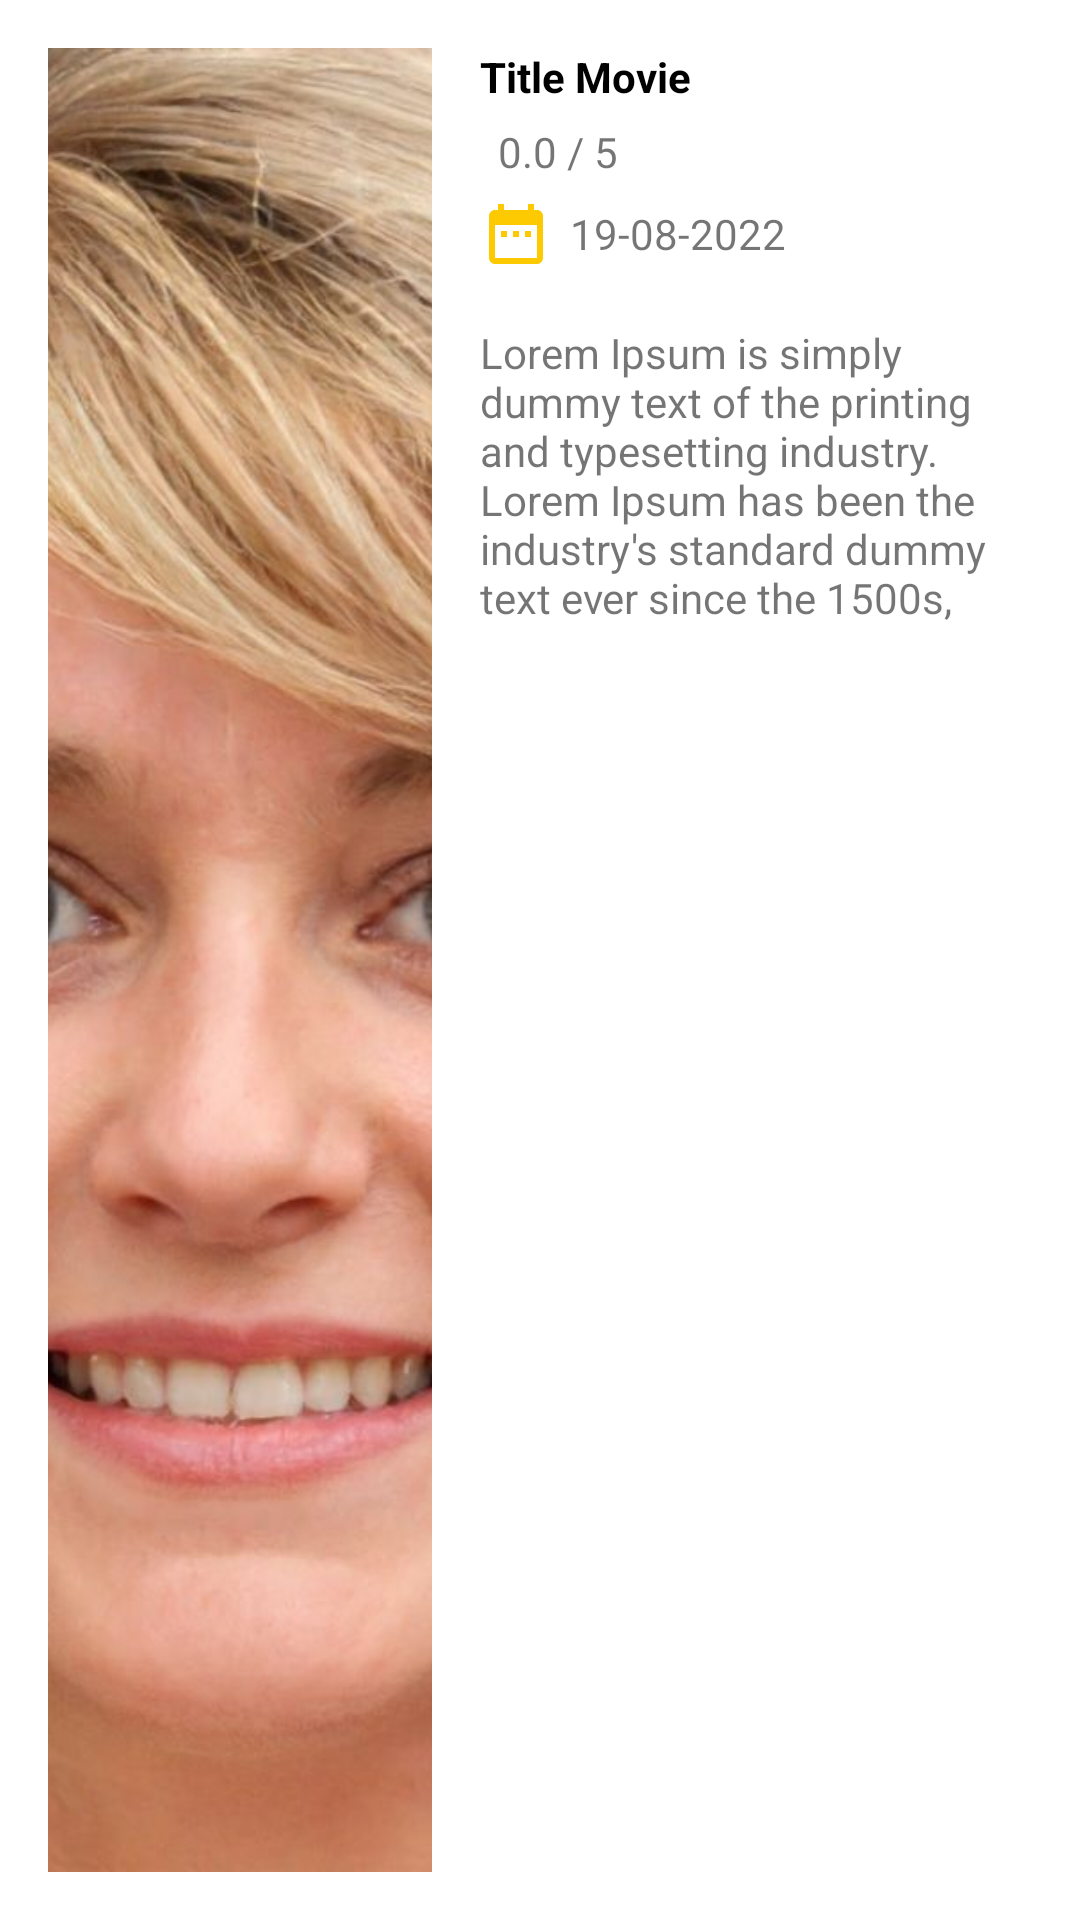

Where to tap for icons on this 1080 x 1920 app screen, as (x,y):
date range: (516,234)
